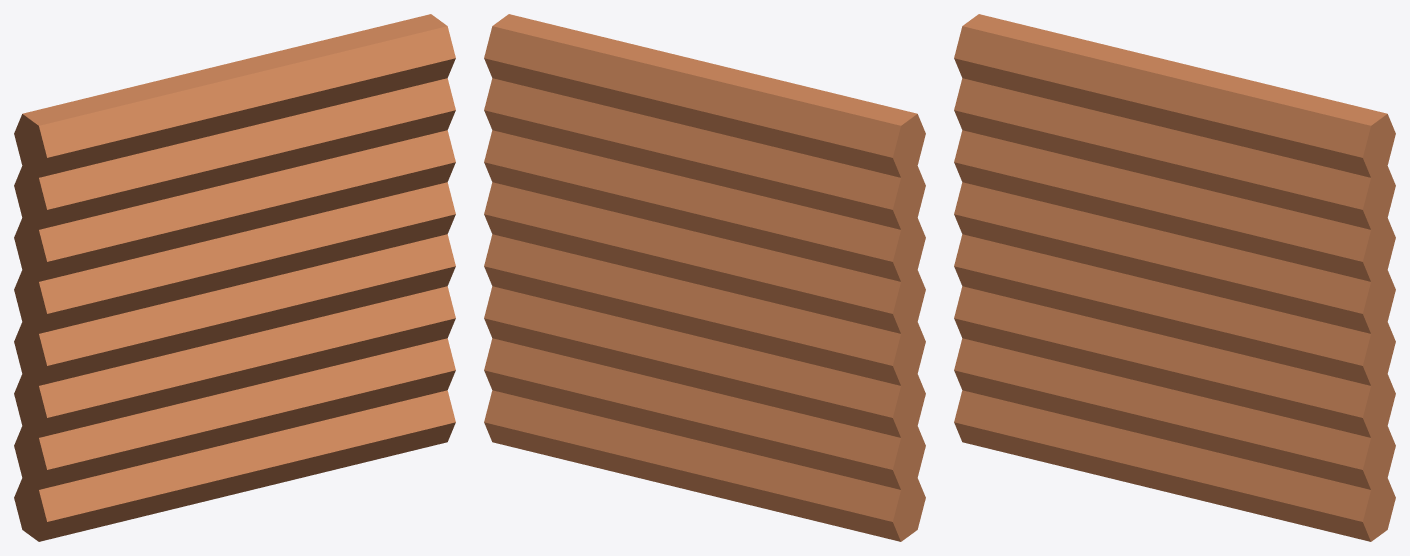
Rendered from cabinWall.fbx.
The picture shows the model from 3 angles, left to right: view 1: azimuth 30°, elevation 25°; view 2: azimuth 150°, elevation 25°; view 3: azimuth 330°, elevation 25°; orthographic projection.
Parts seen in each view (by area): view 1: cabinWall; view 2: cabinWall; view 3: cabinWall.
Boxes of the visible parts, x1,y1,x2,y2 form: cabinWall: (14, 14, 455, 541); cabinWall: (484, 14, 925, 541); cabinWall: (954, 14, 1395, 541).
Size of the model in its own units: 10 by 9.73 by 1.4.
